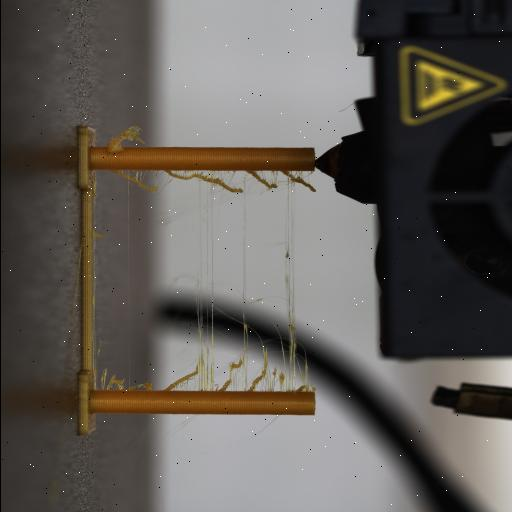stringing: (160, 168, 316, 392)
